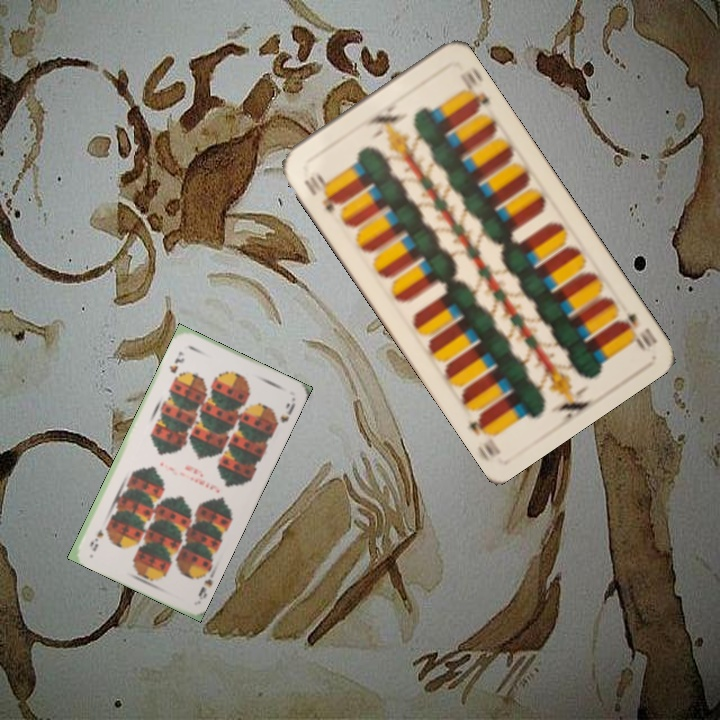E10: (614, 309, 660, 353), (299, 171, 342, 216)
S9: (194, 564, 218, 602), (165, 347, 187, 376)
